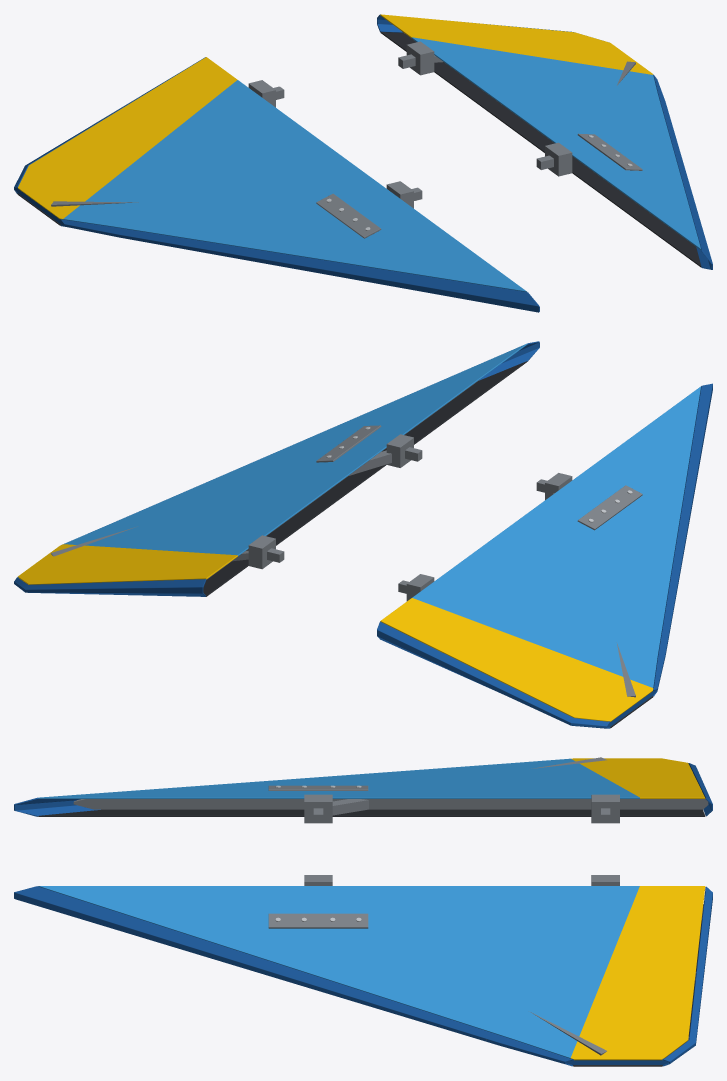
Rendered from strix_wing_stock.fbx.
3 renders of one model, top to bottom at view 1: azimuth 30°, elevation 25°; view 2: azimuth 150°, elevation 25°; view 3: azimuth 270°, elevation 25°, orthographic. The views are drawn at different scales.
Parts seen in each view (by area): view 1: Wing_Top_L, Wing_Top_R, Wing_LE_L, Wing_Bottom_R, Wing_Structure_R, Wing_LE_R, Wing_Structure_L, Wing_Root_Plate_L, Wing_Root_Plate_R; view 2: Wing_Top_L, Wing_Top_R, Wing_Bottom_R, Wing_LE_L, Wing_TE_L, Wing_Structure_R, Wing_TE_R, Wing_Structure_L, Wing_Root_Plate_L, Wing_Root_Plate_R, Wing_LE_R; view 3: Wing_Top_R, Wing_Top_L, Wing_LE_R, Wing_Structure_L, Wing_Bottom_L, Wing_TE_R, Wing_Root_Plate_R, Wing_Structure_R, Wing_LE_L, Wing_Root_Plate_L, Wing_Tip_R.
Part boxes in pixels (x1,y1,x2,y2): Wing_Top_L: (18,57,526,291); Wing_Top_R: (380,14,700,249); Wing_LE_L: (60,219,539,312); Wing_Bottom_R: (380,32,701,267); Wing_Structure_R: (398,31,694,245); Wing_LE_R: (653,75,712,269); Wing_Structure_L: (51,80,422,208); Wing_Root_Plate_L: (316,193,381,238); Wing_Root_Plate_R: (577,133,642,170); Wing_Top_L: (380,386,700,721); Wing_Top_R: (18,344,527,584); Wing_Bottom_R: (24,361,526,596); Wing_LE_L: (653,383,712,696); Wing_TE_L: (377,621,610,728); Wing_Structure_R: (51,380,478,579); Wing_TE_R: (14,577,206,596); Wing_Structure_L: (398,473,635,697); Wing_Root_Plate_L: (577,485,642,530); Wing_Root_Plate_R: (316,425,381,462); Wing_LE_R: (64,341,539,543); Wing_Top_R: (38,886,705,1060); Wing_Top_L: (38,758,705,798); Wing_LE_R: (14,886,572,1066); Wing_Structure_L: (73,757,708,823); Wing_Bottom_L: (38,809,705,816); Wing_TE_R: (663,886,712,1066); Wing_Root_Plate_R: (268,913,368,928); Wing_Structure_R: (304,875,703,1055); Wing_LE_L: (14,797,100,816); Wing_Root_Plate_L: (268,785,368,790); Wing_Tip_R: (565,1058,668,1065).
Size of the model in its own units: 300 by 36.19 by 294.
